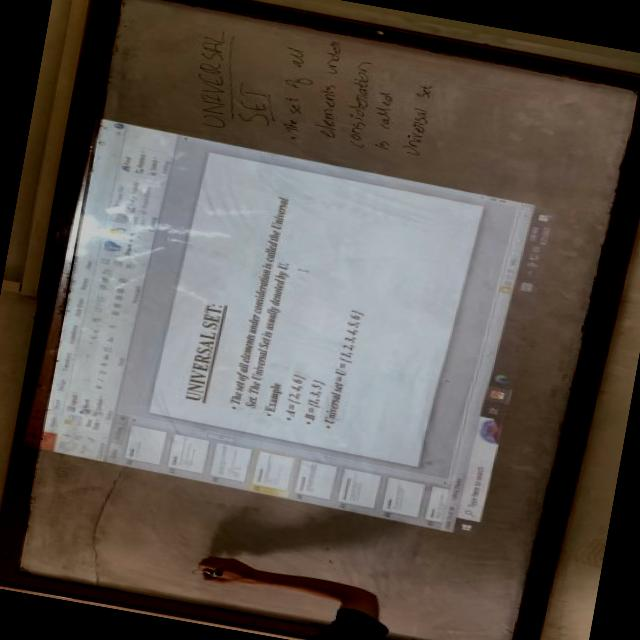Instructor: (144, 551, 590, 640)
Slide: (25, 114, 560, 540)
White-board: (12, 0, 640, 640)
